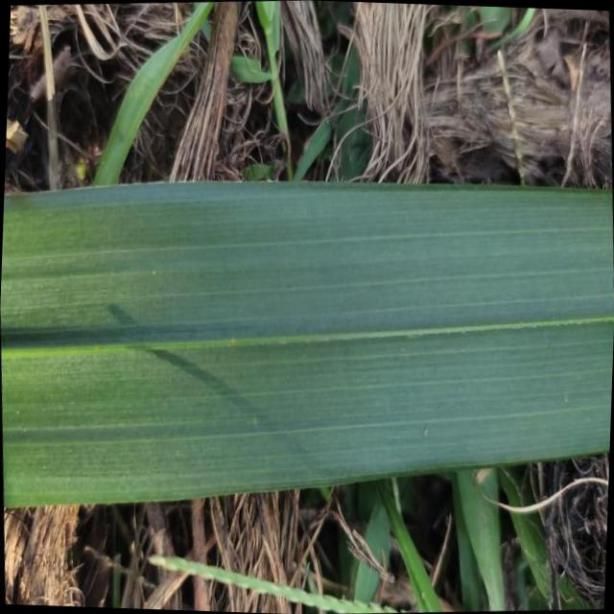Healthy: (5, 182, 614, 507)
